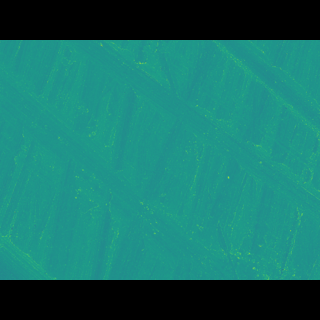Loch: (0, 84, 226, 249), (63, 69, 320, 211), (209, 69, 320, 145)
